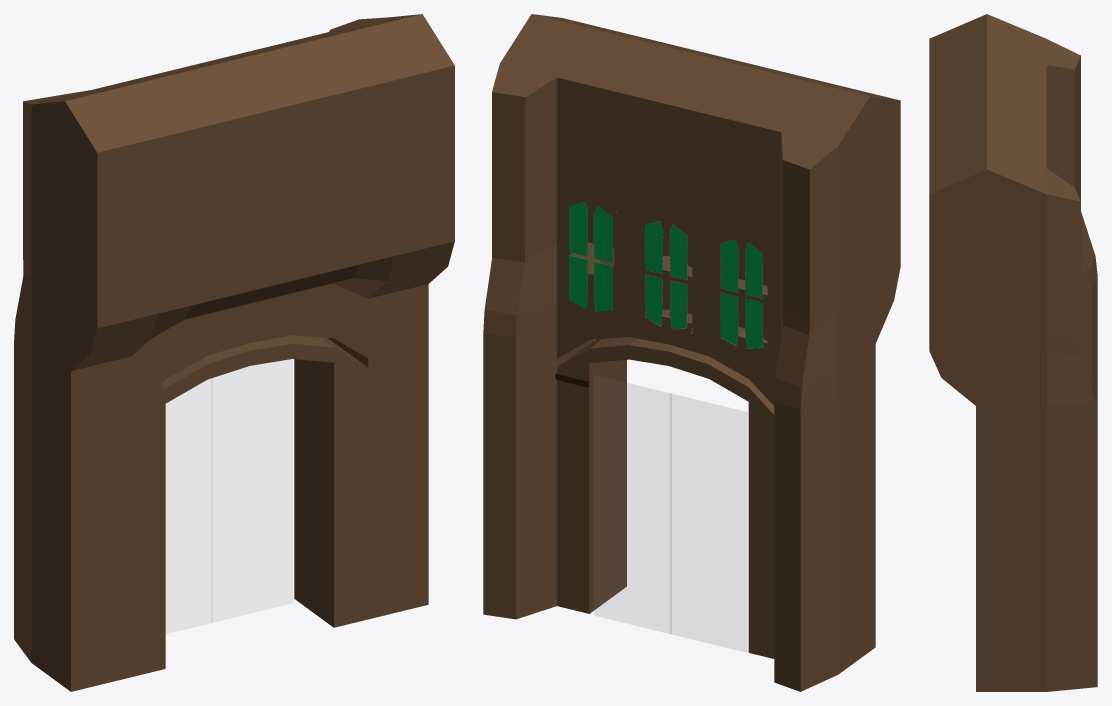
Rendered from Hub_Gate.fbx.
3 views of the same model, side by side, from view 1: azimuth 30°, elevation 25°; view 2: azimuth 150°, elevation 25°; view 3: azimuth 270°, elevation 25° (orthographic). The views are drawn at different scales.
Visible parts, largest first — view 1: Cube.004, Cube.003; view 2: Cube.004, Cube.003; view 3: Cube.004.
Boxes of the visible parts, left/top/right/bottom form: Cube.004: left=14, top=14, right=454, bottom=691; Cube.003: left=166, top=359, right=292, bottom=633; Cube.004: left=483, top=14, right=900, bottom=691; Cube.003: left=594, top=375, right=746, bottom=652; Cube.004: left=929, top=14, right=1097, bottom=691.
Size of the model in its own units: 2169 by 3411 by 993.
